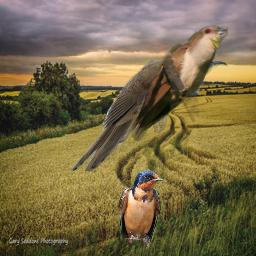Cuckoo: (71, 53, 228, 171), (127, 25, 228, 144)
Swallow: (118, 170, 163, 248)
